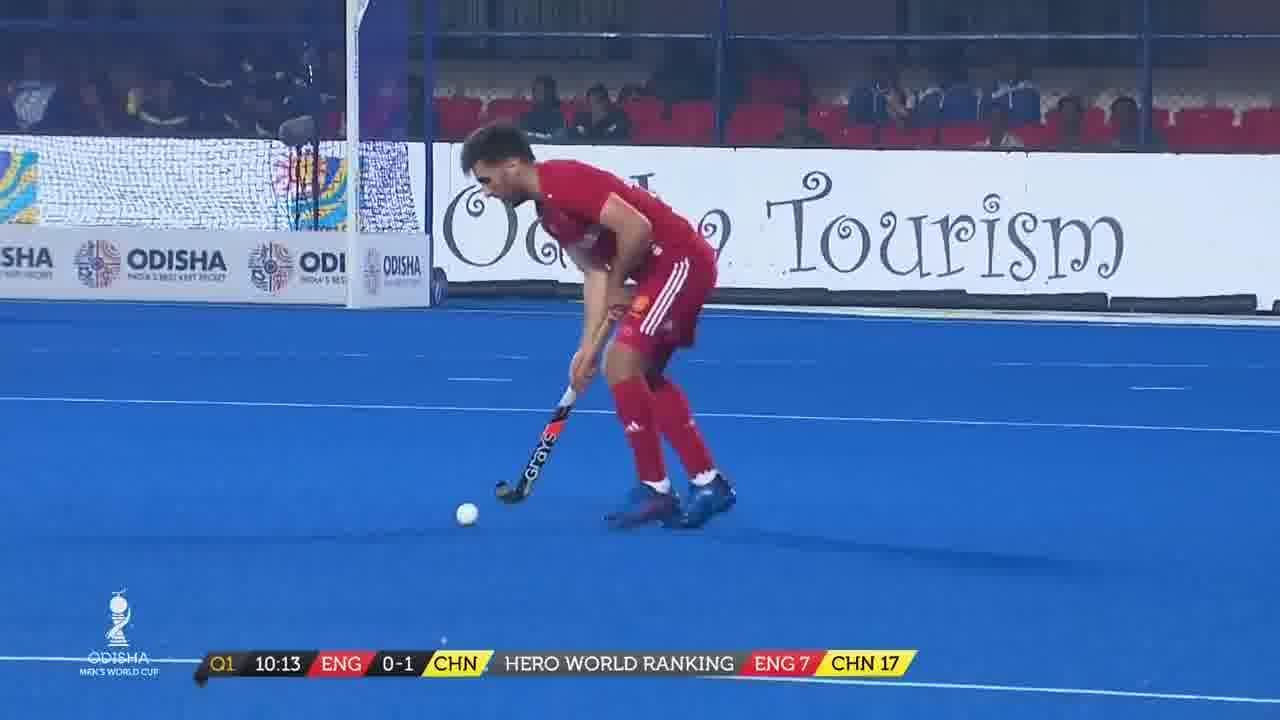ball: (452, 499, 482, 533)
